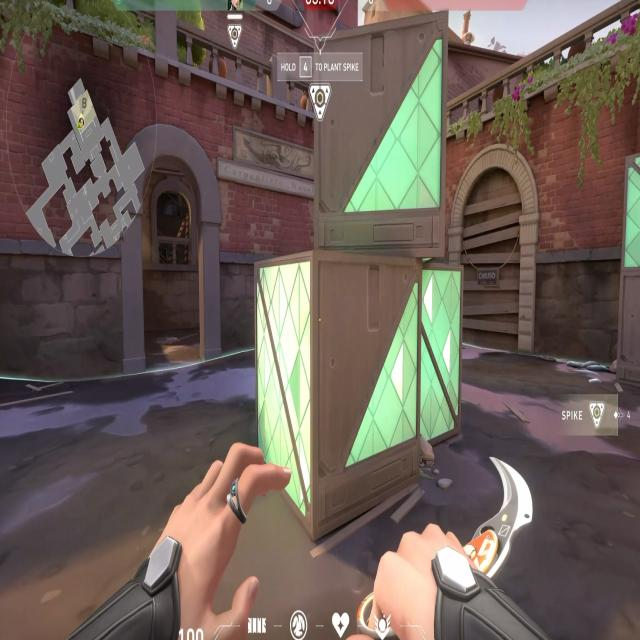B_Boathouse: (108, 115, 225, 373)
B_Site_Box: (248, 7, 482, 545)
